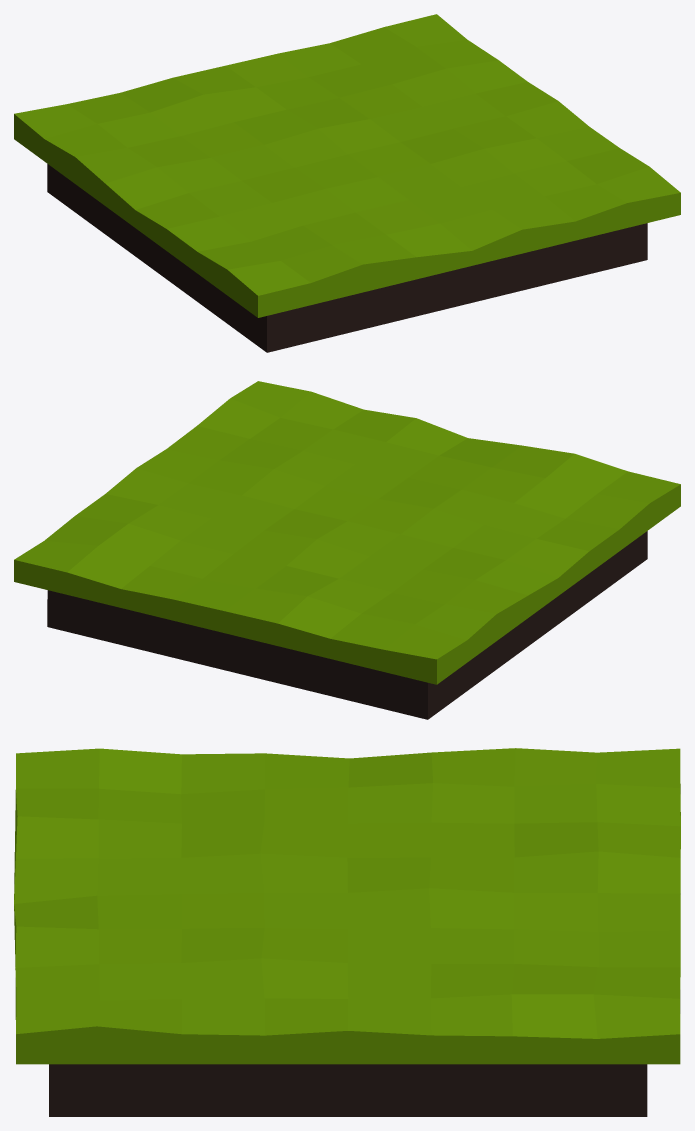
Rendered from grounds_1.fbx.
3 renders of one model, top to bottom at view 1: azimuth 30°, elevation 25°; view 2: azimuth 150°, elevation 25°; view 3: azimuth 270°, elevation 25°, orthographic. The views are drawn at different scales.
Visible parts, largest first — view 1: Cube; view 2: Cube; view 3: Cube.
Part boxes in pixels (<box>): Cube: <box>14,14,680,352</box>; Cube: <box>14,381,680,719</box>; Cube: <box>14,748,680,1116</box>.
Bounding box in the file's own units: 4007 × 693 × 4015.
